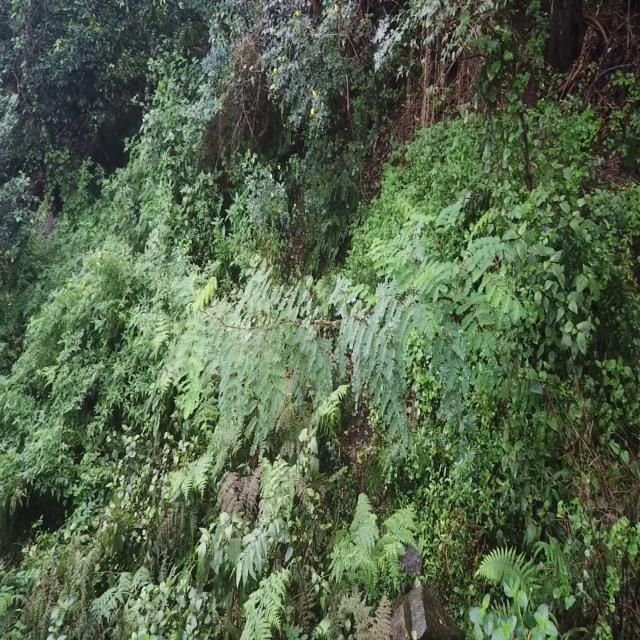Mysore-Thorn-Weed: (322, 180, 522, 457), (160, 255, 350, 444)
